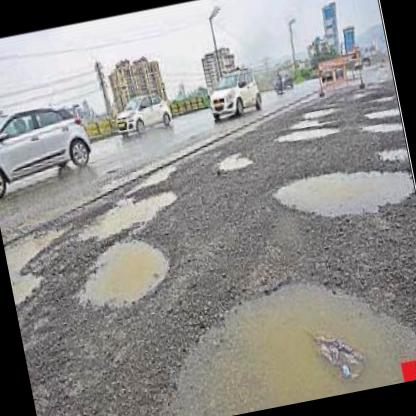pothole: (140, 250, 416, 416), (269, 149, 416, 231), (72, 229, 178, 313), (77, 182, 181, 243), (276, 119, 339, 146), (214, 146, 255, 174), (360, 100, 402, 122), (362, 115, 404, 135), (300, 103, 338, 119)
